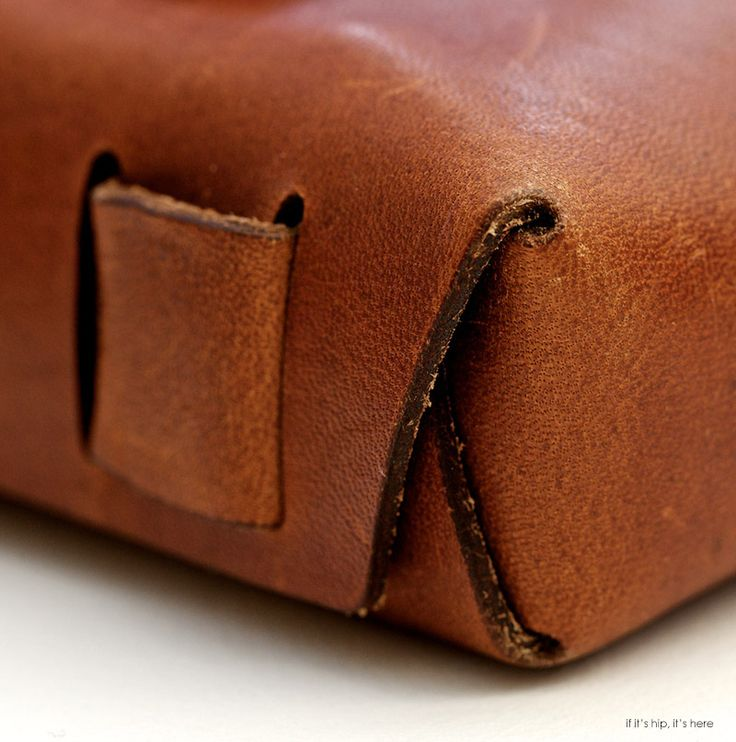cuero: (1, 1, 736, 667)
